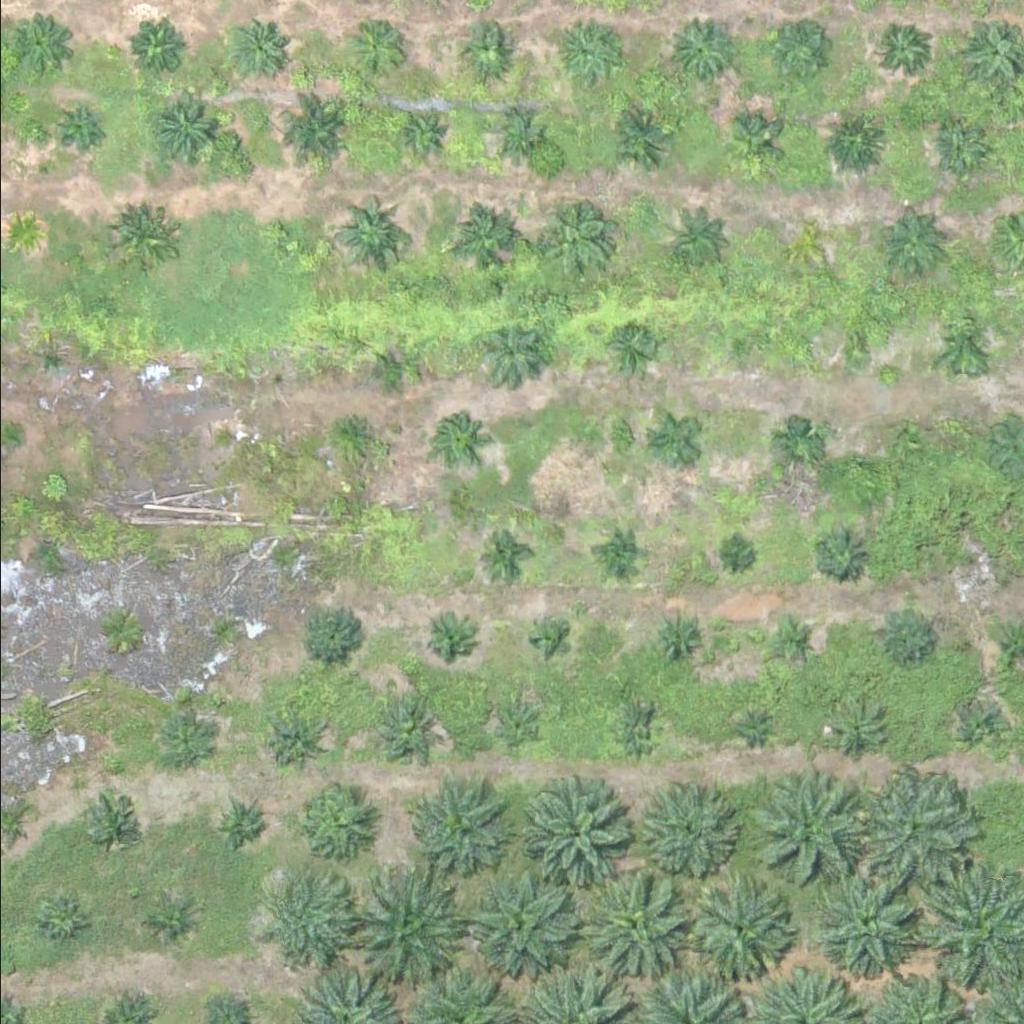Kelapa_Sawit: (342, 873, 456, 985), (458, 869, 572, 981), (575, 872, 689, 984), (856, 772, 969, 884), (750, 781, 863, 893), (818, 874, 919, 974), (690, 880, 791, 980), (525, 785, 625, 885), (399, 773, 499, 873), (288, 775, 376, 862), (641, 790, 729, 877), (261, 875, 349, 962), (268, 87, 356, 174), (329, 195, 405, 270), (759, 9, 835, 84), (150, 90, 225, 165), (344, 13, 407, 76), (551, 18, 614, 81), (227, 16, 290, 79), (261, 710, 324, 773), (478, 324, 541, 387), (302, 605, 365, 668), (110, 207, 173, 270), (879, 212, 942, 275), (824, 111, 887, 174), (874, 605, 937, 668), (667, 17, 730, 79), (7, 10, 70, 72), (124, 14, 187, 76), (371, 704, 434, 766), (607, 107, 670, 169), (450, 207, 513, 269), (541, 209, 603, 272), (662, 215, 725, 277), (209, 798, 272, 860), (477, 527, 528, 577), (423, 611, 474, 661), (829, 704, 880, 754), (941, 320, 992, 370), (816, 527, 867, 577), (364, 345, 415, 395), (329, 407, 380, 457), (458, 25, 508, 75), (49, 97, 99, 147), (155, 717, 205, 767), (91, 793, 141, 843), (612, 709, 662, 759), (595, 529, 645, 579), (650, 417, 700, 467), (728, 117, 778, 167), (607, 324, 657, 374), (432, 412, 482, 462), (876, 25, 926, 75), (935, 119, 985, 169), (770, 419, 820, 469), (35, 895, 85, 945), (144, 896, 194, 946), (957, 704, 1007, 754), (767, 615, 817, 665), (493, 698, 543, 748), (653, 614, 703, 664), (396, 106, 447, 155), (886, 427, 924, 465), (530, 618, 568, 656), (4, 213, 42, 251), (500, 116, 538, 153), (30, 340, 68, 377), (966, 550, 991, 575), (737, 716, 762, 741), (723, 539, 748, 564), (730, 338, 755, 363), (846, 338, 871, 363), (792, 233, 817, 258), (3, 425, 28, 450), (212, 422, 237, 447), (265, 223, 290, 248)
